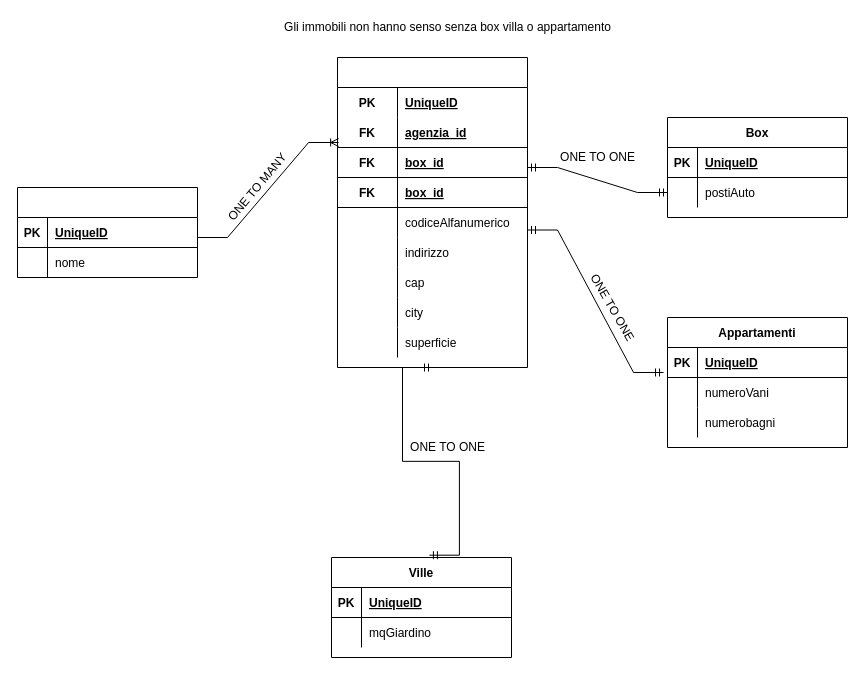
The diagram is 865 pixels wide and 675 high, and some of its shapes have lost their labels. The shapes that lost their labels are listed below. From the top down, each one's box as (x1, y1, x2, y2) in pixels, then its label:
(16, 186, 198, 278): Agenzie
(336, 56, 528, 368): Immobili
